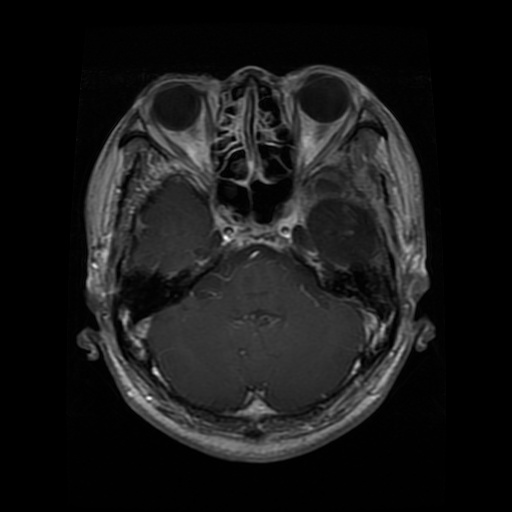glioma: (310, 197, 378, 269)
